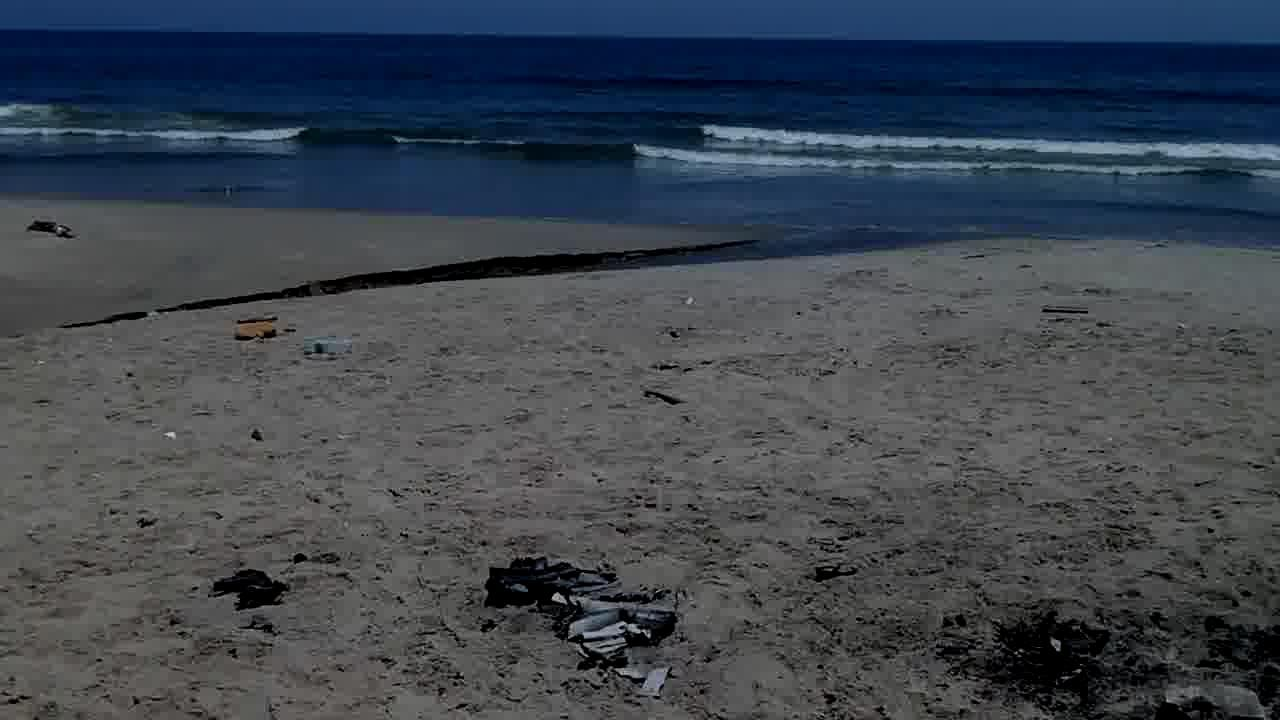obj: (469, 538, 709, 700), (995, 605, 1119, 705), (205, 562, 293, 617), (226, 309, 290, 345), (1038, 296, 1090, 325), (23, 217, 76, 245)
sand/background: (0, 0, 1279, 261)
